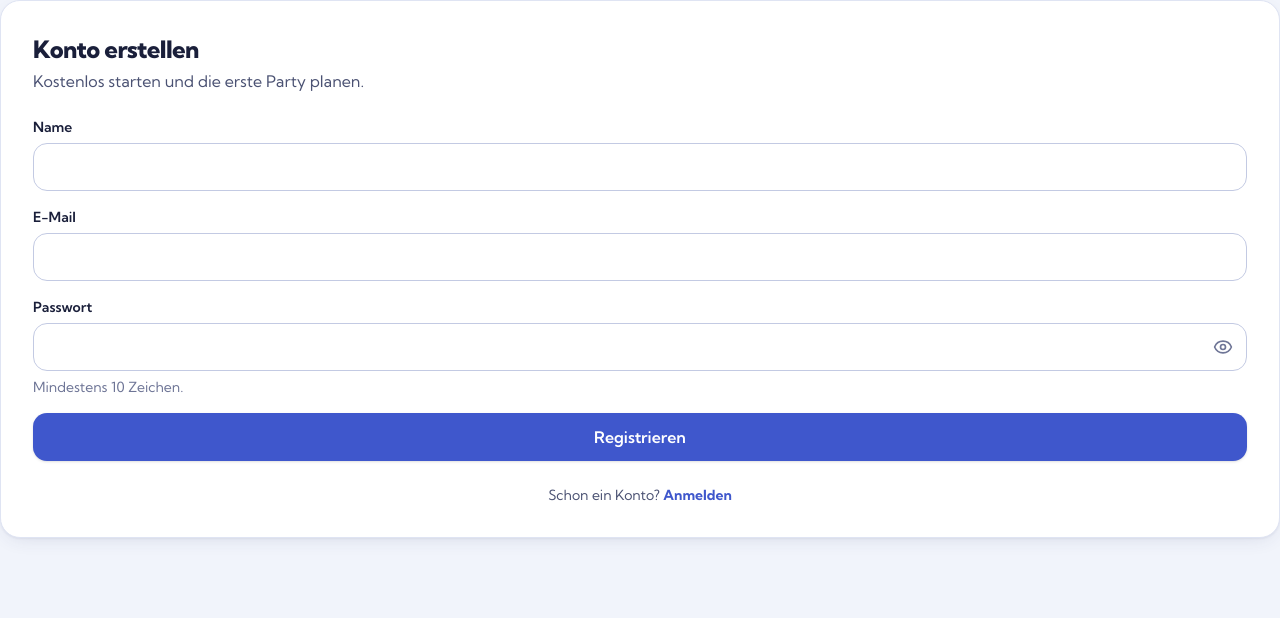
Test: AuthForm (register) › reports a taken address
This screenshot has width=1280, height=618.
In the field labelled "Name": [640, 167] box [33,143,1247,191], type "Ada"
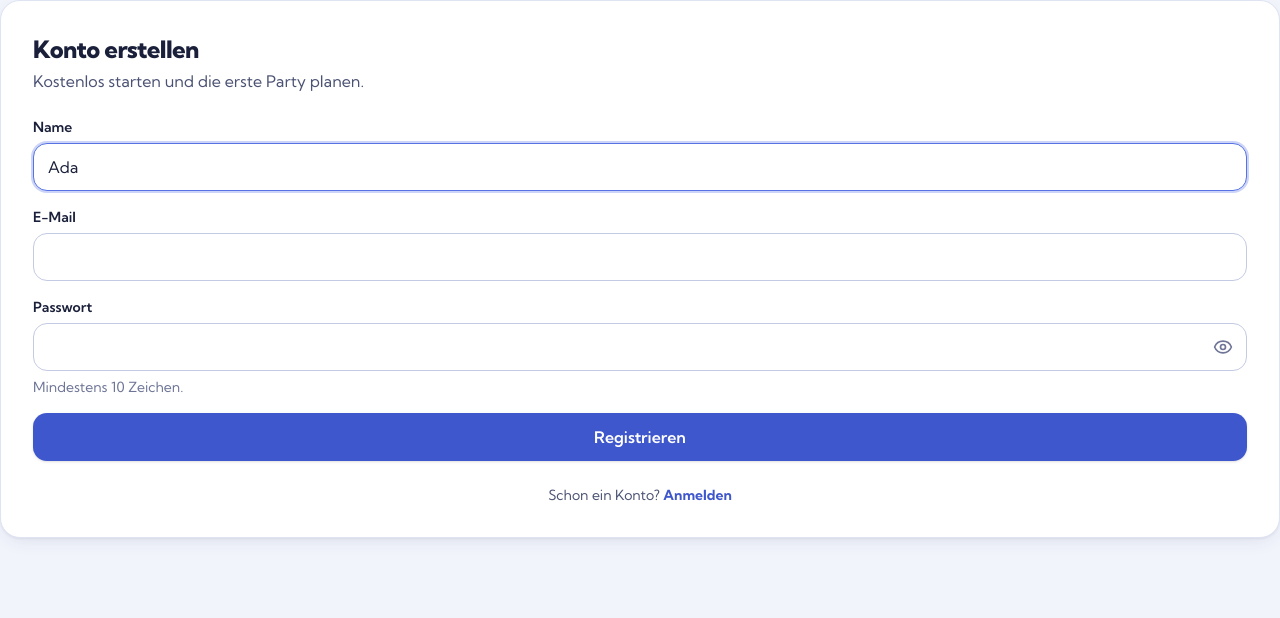
In the field labelled "E-Mail": [640, 257] box [33,233,1247,281], type "ada@example.com"
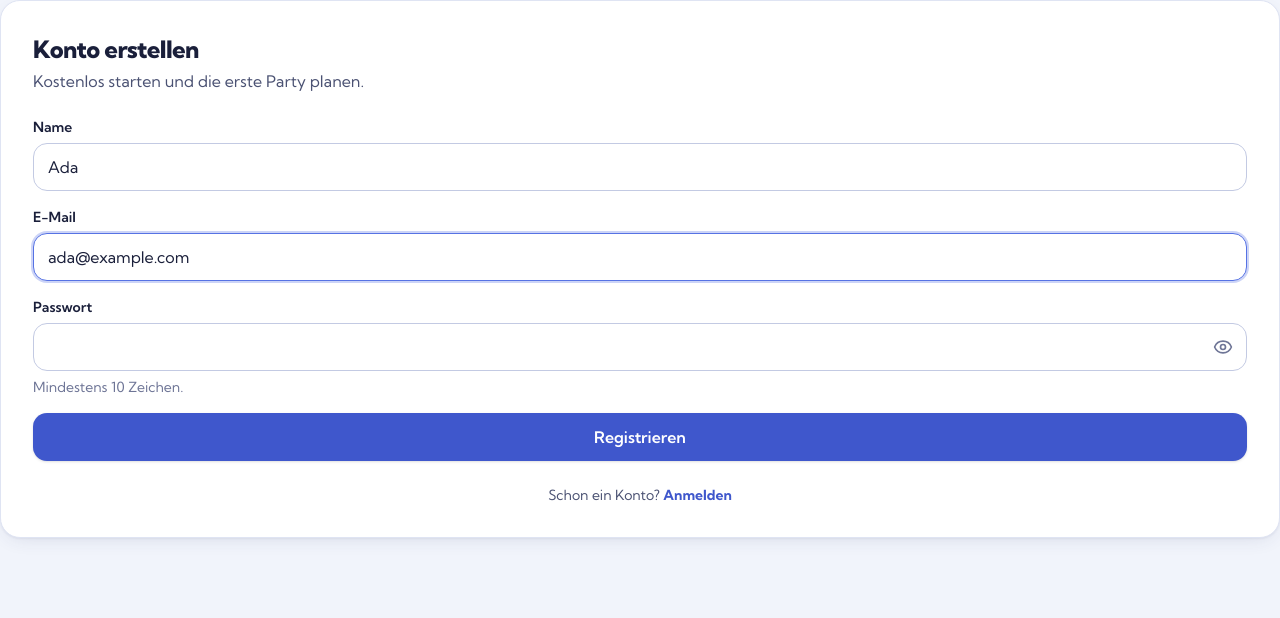
In the password field labelled "Passwort": [640, 347] box [33,323,1247,371], type "a long enough password"
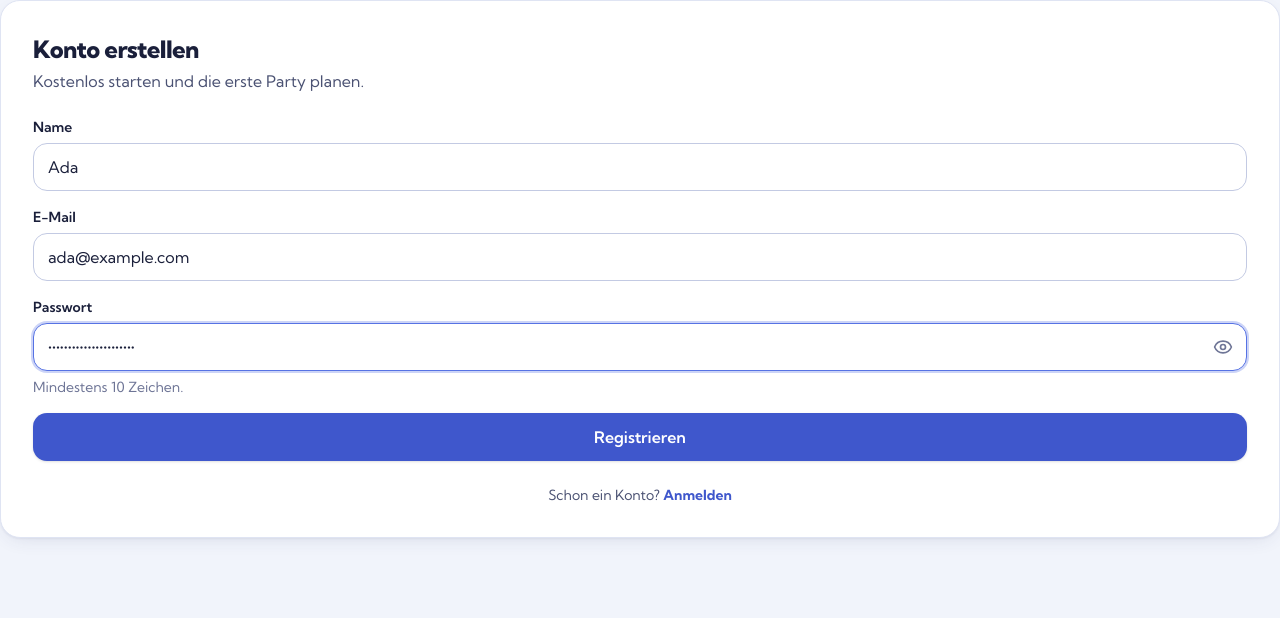
Click the button "Registrieren": [640, 437] box [33,413,1247,461]
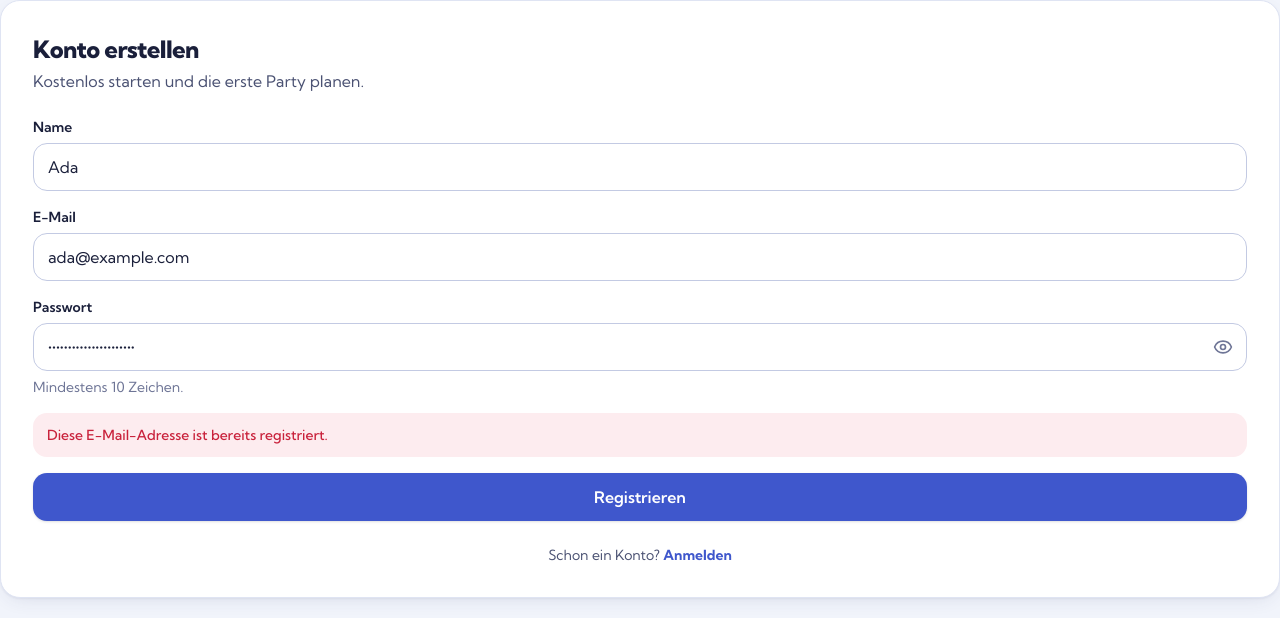
Expected: the message shows "bereits registriert", [47,426,328,444]
